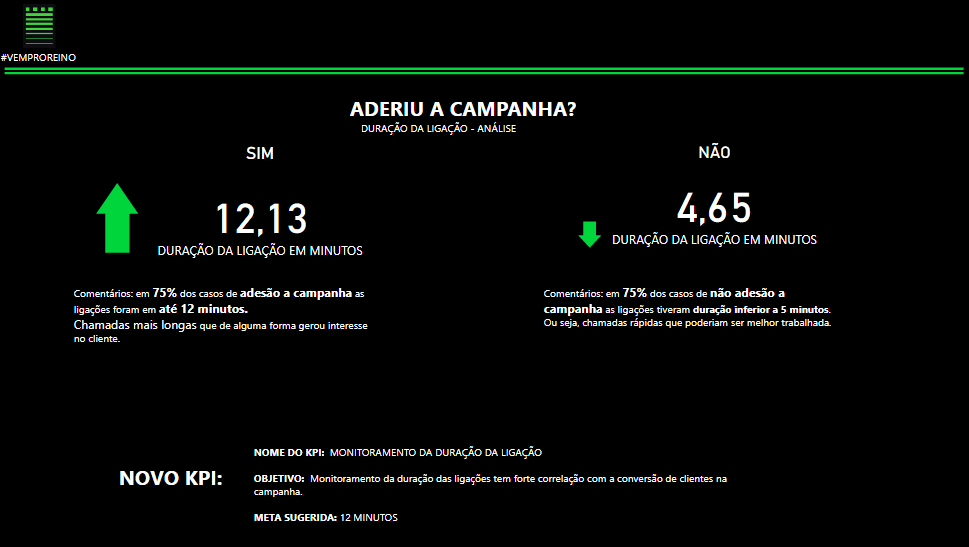

The dashboard page shown, as its layout file describes it:
{"tool":"powerbi","page":{"name":"MONITORAMENTO DA CHAMADA","canvas":[1280,720],"ordinal":0},"visuals":[{"type":"card","title":"SIM","fields":{"Values":["campaigns.##DURATION_QUARTILE_YES"]},"box":[199.2,188.4,291.9,178.8],"z":0},{"type":"basicShape","box":[0,78.9,1280,22.8],"z":1000},{"type":"basicShape","box":[0,79.9,1280,32.3],"z":2000},{"type":"image","box":[24.7,0,59.9,68.5],"z":3000},{"type":"card","title":"NÃO","fields":{"Values":["campaigns.##DURATION_QUARTILE_NO"]},"box":[795.6,188.4,292.9,153.1],"z":4000},{"type":"basicShape","box":[127.3,236.9,61.1,100.5],"z":5000},{"type":"basicShape","box":[762.2,287.4,33.3,40.9],"z":6000},{"type":"textbox","box":[332.4,580.2,663.1,131.4],"z":7000},{"type":"textbox","box":[95.6,367.3,396.6,97.9],"z":8000},{"type":"textbox","box":[713.7,367.3,396.6,87.5],"z":9000},{"type":"textbox","box":[0,61.8,127.4,28.5],"z":10000},{"type":"textbox","box":[457.9,118.1,428.9,83.7],"z":11000},{"type":"textbox","box":[154.9,603.6,153.2,83.7],"z":12000}]}

Visuals, with their boxes on the page's 1280x720 design canvas (x1, y1, x2, y2). These are canvas units, not pixel positions in the 969x547 screenshot, which may show the page scaled, cropped or inside an application window:
"SIM" card: l=199, t=188, r=491, b=367
basicShape: l=0, t=79, r=1280, b=102
basicShape: l=0, t=80, r=1280, b=112
image: l=25, t=0, r=85, b=68
"NÃO" card: l=796, t=188, r=1088, b=342
basicShape: l=127, t=237, r=188, b=337
basicShape: l=762, t=287, r=796, b=328
textbox: l=332, t=580, r=996, b=712
textbox: l=96, t=367, r=492, b=465
textbox: l=714, t=367, r=1110, b=455
textbox: l=0, t=62, r=127, b=90
textbox: l=458, t=118, r=887, b=202
textbox: l=155, t=604, r=308, b=687
